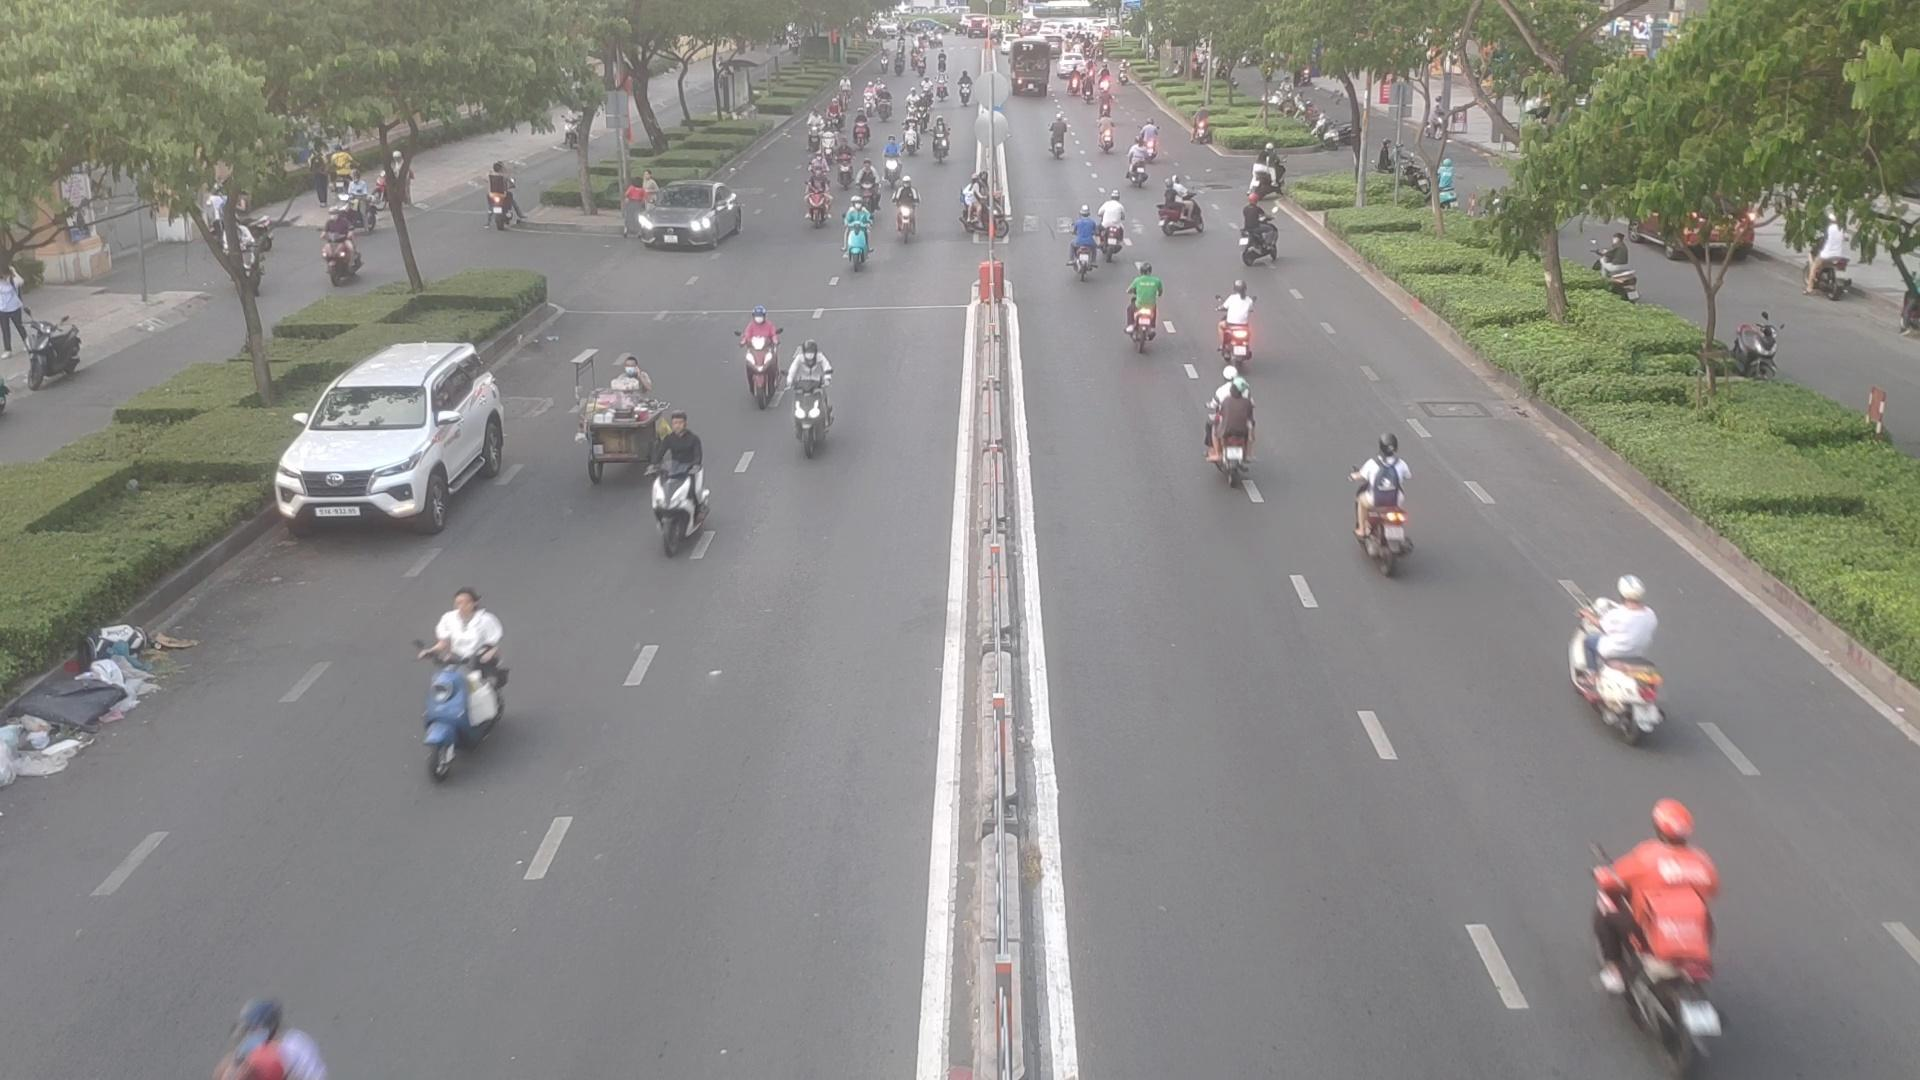car: (278, 338, 520, 527), (621, 187, 750, 255)
motorbike: (1573, 799, 1741, 1072), (407, 593, 513, 764), (1569, 582, 1677, 738), (641, 415, 717, 553), (1346, 440, 1420, 563), (779, 340, 845, 458), (1203, 378, 1269, 488), (1124, 266, 1176, 352), (1065, 204, 1120, 280), (736, 309, 785, 390), (964, 175, 1019, 244), (1220, 290, 1265, 371), (1241, 199, 1282, 266), (1158, 189, 1204, 241), (806, 160, 836, 227), (841, 199, 869, 266), (893, 177, 920, 239), (1127, 148, 1154, 189)
